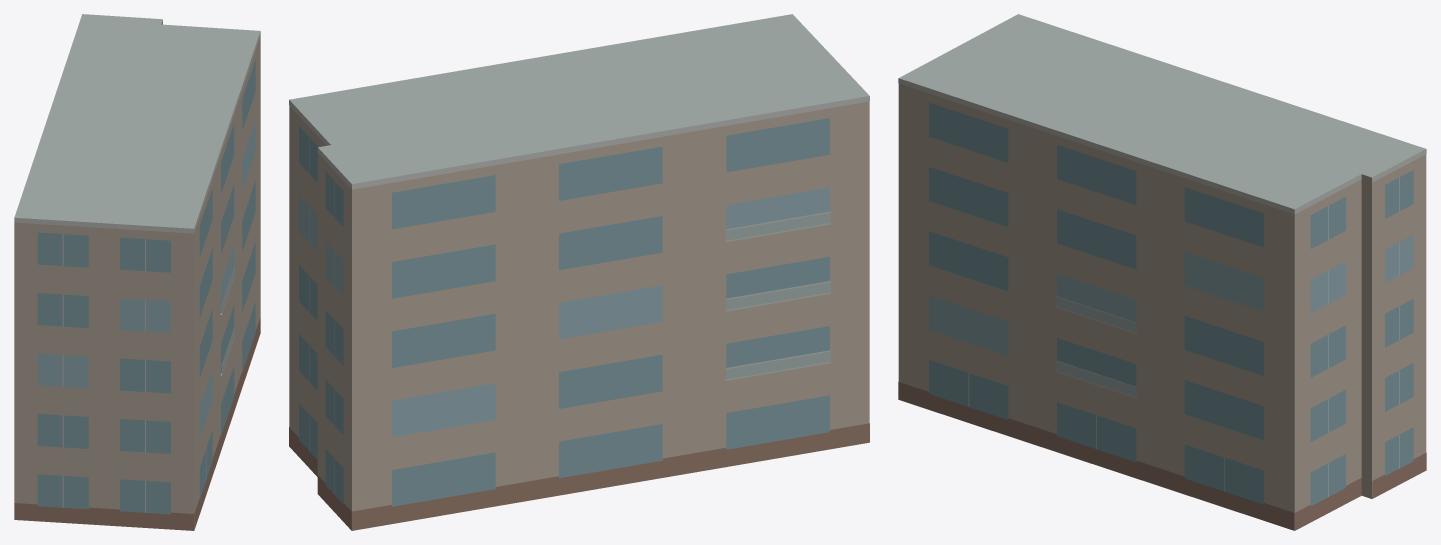
File: survey-upis-32871193.glb
3 renders of one model, left to right at view 1: azimuth 30°, elevation 25°; view 2: azimuth 150°, elevation 25°; view 3: azimuth 270°, elevation 25°, orthographic. The views are drawn at different scales.
Visible parts, largest first — view 1: survey-upis-32871193.tmp; view 2: survey-upis-32871193.tmp; view 3: survey-upis-32871193.tmp.
Boxes of the visible parts, bbox=[...] form: survey-upis-32871193.tmp: bbox=[14, 14, 260, 530]; survey-upis-32871193.tmp: bbox=[289, 14, 869, 530]; survey-upis-32871193.tmp: bbox=[898, 14, 1426, 530].
Size of the model in its own units: 19.88 by 15.25 by 22.7.
